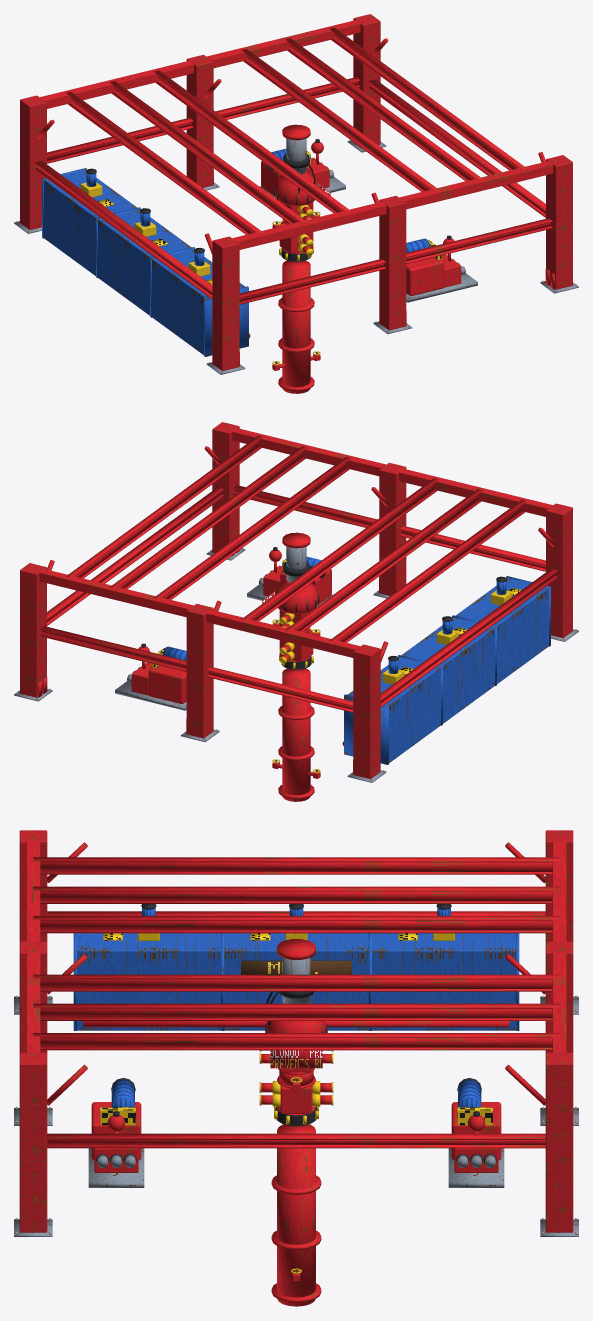
Rendered from p_substructure.glb.
3 renders of one model, top to bottom at view 1: azimuth 30°, elevation 25°; view 2: azimuth 150°, elevation 25°; view 3: azimuth 270°, elevation 25°, orthographic. The views are drawn at different scales.
Parts seen in each view (by area): view 1: p_substructure_lod0; view 2: p_substructure_lod0; view 3: p_substructure_lod0.
Part boxes in pixels (box(x1,y1,x2,y2)): p_substructure_lod0: box(14, 14, 578, 393); p_substructure_lod0: box(14, 422, 578, 801); p_substructure_lod0: box(14, 830, 578, 1306).
Size of what is drawn, in the model's own units: 20.4 by 14 by 20.4.
Materials: 1 (1 with a texture image).
